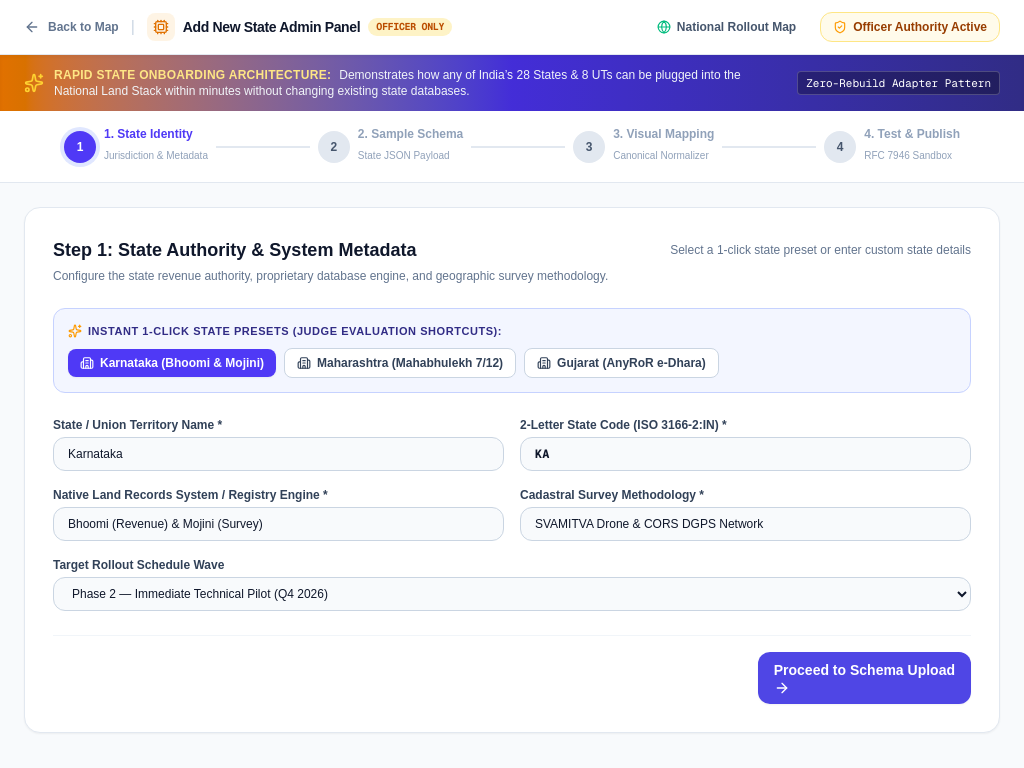
Test: State Onboarding Admin Panel & Schema Adapter Wizard › navigates through all 4 wizard steps sequentially
Expected: the text "Step 1: State Authority & System Metadata" is shown, 53,236 -> 416,264
Click the button with test id "next-step-1-btn": [864, 678] box 758,652 -> 971,704
(page scrolled)
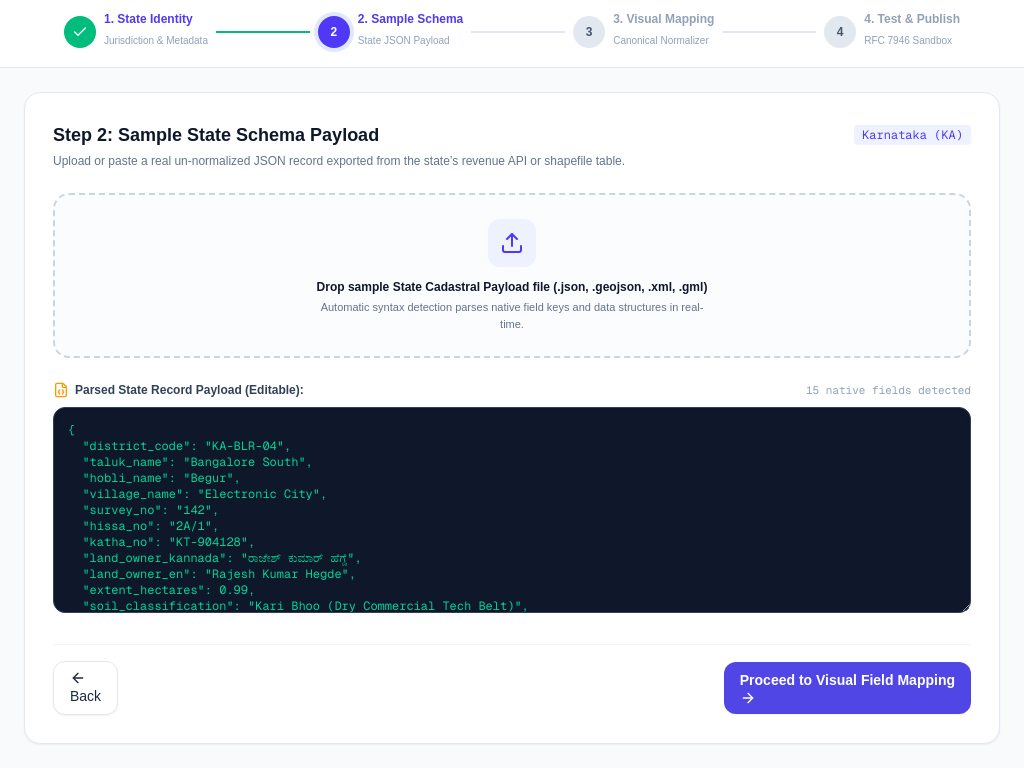
Now the text "Step 2: Sample State Schema Payload" is shown, box 53,121 -> 379,149
Now the text "Drop sample State Cadastral Payload file" is shown, box 317,280 -> 707,294
Now the text "15 native fields detected" is shown, box 806,382 -> 971,398
Click the button with test id "next-step-2-btn": [847, 688] box 724,662 -> 971,714
(page scrolled)
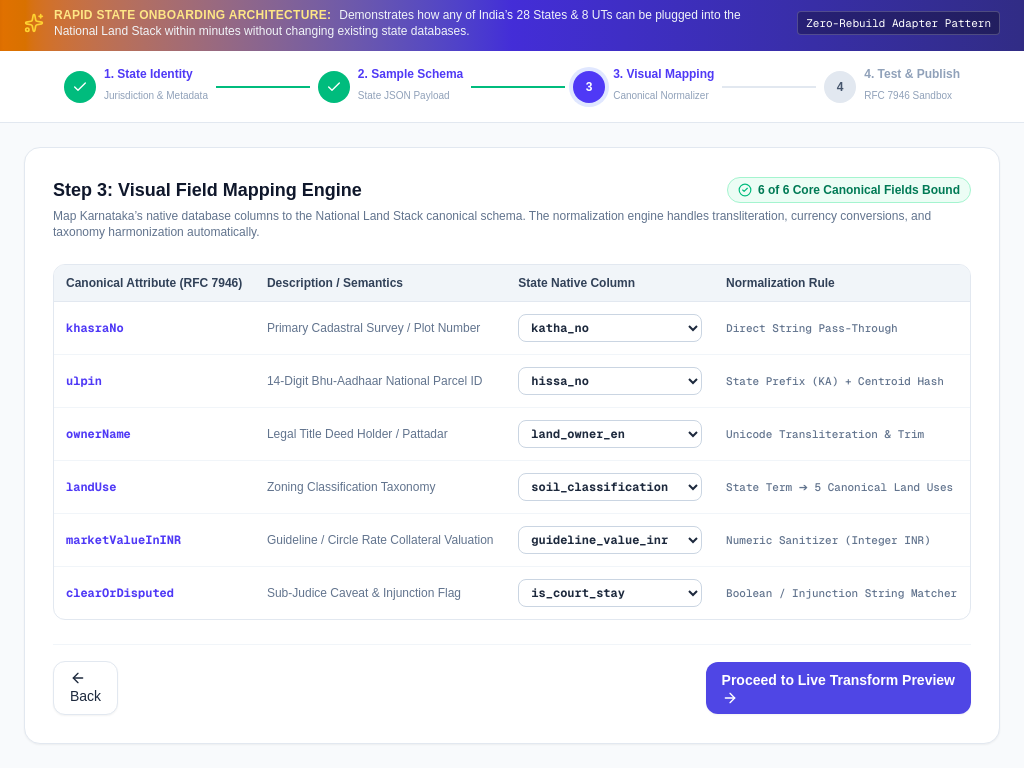
Now the text "Step 3: Visual Field Mapping Engine" is shown, box 53,176 -> 362,204
Now the text "6 of 6 Core Canonical Fields Bound" is shown, box 758,182 -> 960,198
Now the text "Direct String Pass-Through" is shown, box 714,302 -> 970,354
Click the button with test id "next-step-3-btn": [838, 688] box 706,662 -> 971,714
(page scrolled)
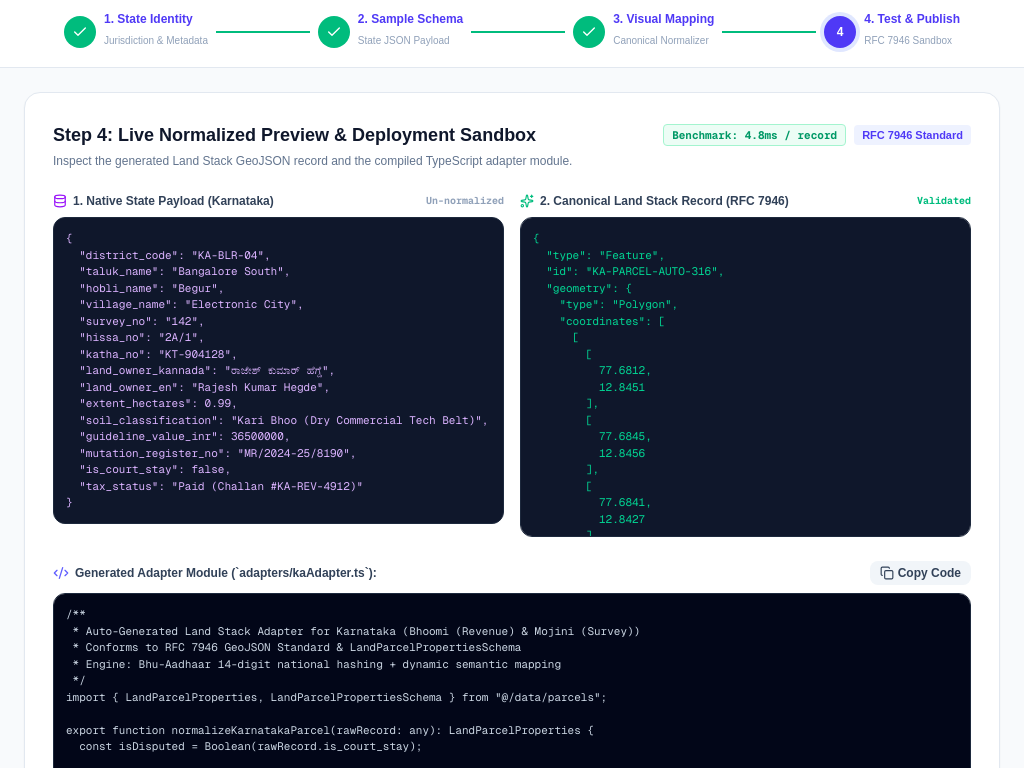
Now the text "Step 4: Live Normalized Preview & Deployment Sandbox" is shown, box 53,121 -> 536,149
Now the text "Benchmark: 4.8ms / record" is shown, box 663,124 -> 846,146
Now the text "RFC 7946 Standard" is shown, box 854,125 -> 971,145
